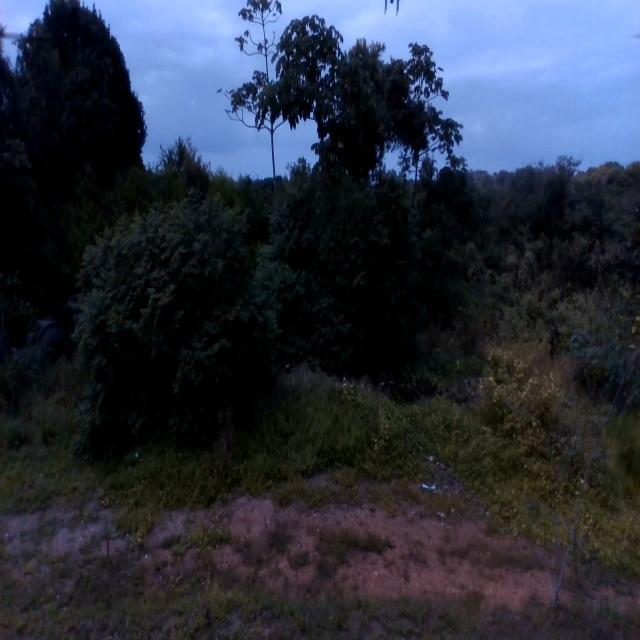-uav-: (381, 0, 400, 17)
